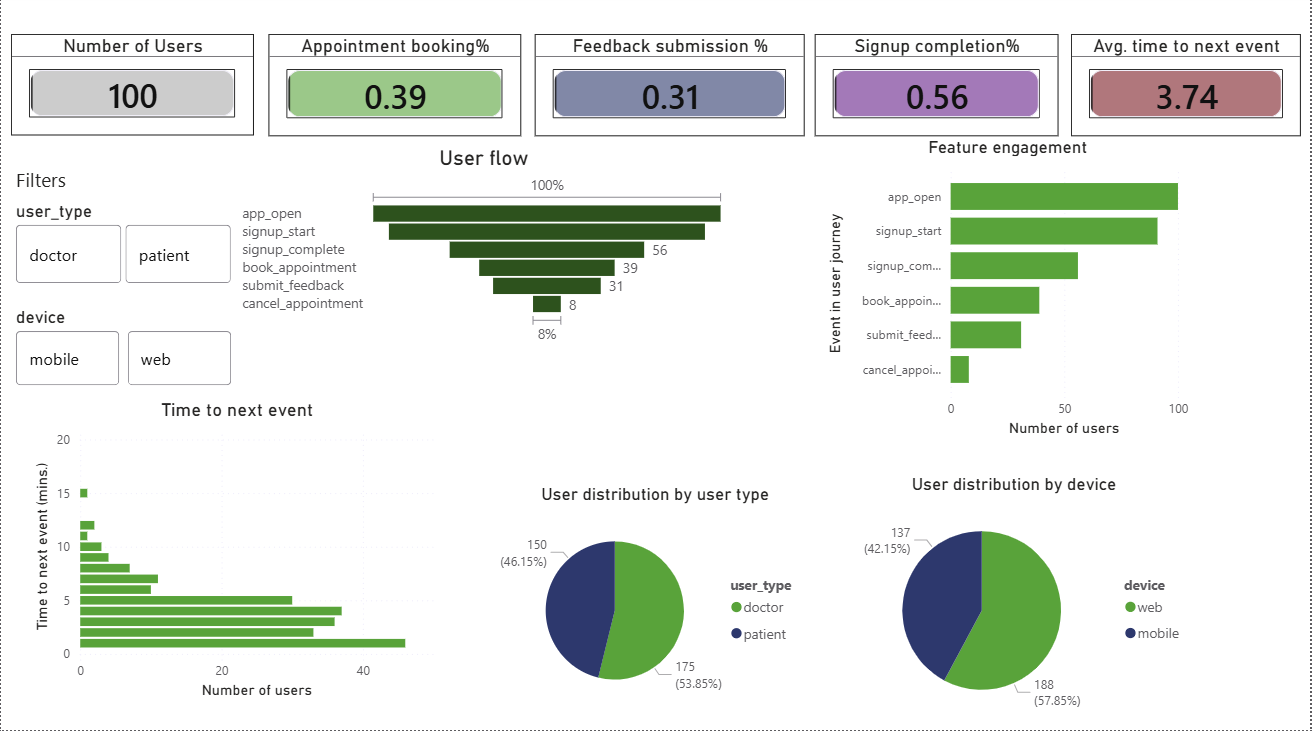

Layout of this report page (visuals, bound fields, positions):
{"tool":"powerbi","page":{"name":"Page 1","canvas":[1280,720],"ordinal":0},"visuals":[{"type":"funnel","title":"User flow","fields":{"Category":["ux_telemetry_simulated_data.event_name"],"Y":["CountNonNull(ux_telemetry_simulated_data.user_id)"]},"box":[231.1,148,483,199.3],"z":0},{"type":"barChart","title":"Feature engagement","fields":{"Category":["ux_telemetry_simulated_data.event_name"],"Y":["CountNonNull(ux_telemetry_simulated_data.user_id)"]},"box":[803.4,139.4,363.2,298.4],"z":1000},{"type":"pieChart","title":"User distribution by device","fields":{"Category":["ux_telemetry_simulated_data.device"],"Y":["CountNonNull(ux_telemetry_simulated_data.user_id)"]},"box":[815.6,469.6,351,248.2],"z":2000},{"type":"pieChart","title":"User distribution by user type","fields":{"Category":["ux_telemetry_simulated_data.user_type"],"Y":["CountNonNull(ux_telemetry_simulated_data.user_id)"]},"box":[483,479.4,314.3,228.7],"z":3000},{"type":"cardVisual","title":"Number of Users","fields":{"Data":["Count(ux_telemetry_simulated_data.user_id)"]},"box":[9.8,39.1,237.2,99],"z":4000},{"type":"cardVisual","title":"Appointment booking%","fields":{"Data":["ux_telemetry_simulated_data.Appointment_Booking_Percent"]},"box":[261.7,39.1,247,100.3],"z":5000},{"type":"cardVisual","title":"Feedback submission %","fields":{"Data":["ux_telemetry_simulated_data.Feedback_Submission_Percent"]},"box":[522.1,39.1,264.1,100.3],"z":6000},{"type":"cardVisual","title":"Signup completion%","fields":{"Data":["ux_telemetry_simulated_data.Signup_Completion_Percent"]},"box":[796.1,39.1,238.5,100.3],"z":7000},{"type":"clusteredBarChart","title":"Time to next event","fields":{"Category":["ux_telemetry_simulated_data.TimeToNextEvent_min"],"Y":["CountNonNull(ux_telemetry_simulated_data.user_id)"]},"box":[26.9,396.2,408.4,298.4],"z":8000},{"type":"cardVisual","title":"Avg. time to next event","fields":{"Data":["ux_telemetry_simulated_data.Avg_TimeToNextEvent_min"]},"box":[1046.7,39.1,225,100.3],"z":9000},{"type":"advancedSlicerVisual","fields":{"Values":["ux_telemetry_simulated_data.user_type"]},"box":[9.8,201.8,221.3,86.8],"z":9001},{"type":"advancedSlicerVisual","fields":{"Values":["ux_telemetry_simulated_data.device"]},"box":[9.8,305.7,221.3,83.2],"z":9002},{"type":"textbox","box":[9.8,163.9,69.7,37.9],"z":9003}]}

Visuals, with their boxes in screenshot pixels (x1, y1, x2, y2), scaled from the page's 1280x720 canvas onto the 1313x732 screenshot:
"User flow" funnel: select_region(237, 150, 733, 353)
"Feature engagement" barChart: select_region(824, 142, 1197, 445)
"User distribution by device" pieChart: select_region(837, 477, 1197, 730)
"User distribution by user type" pieChart: select_region(495, 487, 818, 720)
"Number of Users" cardVisual: select_region(10, 40, 253, 140)
"Appointment booking%" cardVisual: select_region(268, 40, 522, 142)
"Feedback submission %" cardVisual: select_region(536, 40, 806, 142)
"Signup completion%" cardVisual: select_region(817, 40, 1061, 142)
"Time to next event" clusteredBarChart: select_region(28, 403, 447, 706)
"Avg. time to next event" cardVisual: select_region(1074, 40, 1304, 142)
advancedSlicerVisual - ux_telemetry_simulated_data.user_type: select_region(10, 205, 237, 293)
advancedSlicerVisual - ux_telemetry_simulated_data.device: select_region(10, 311, 237, 395)
textbox: select_region(10, 167, 82, 205)
